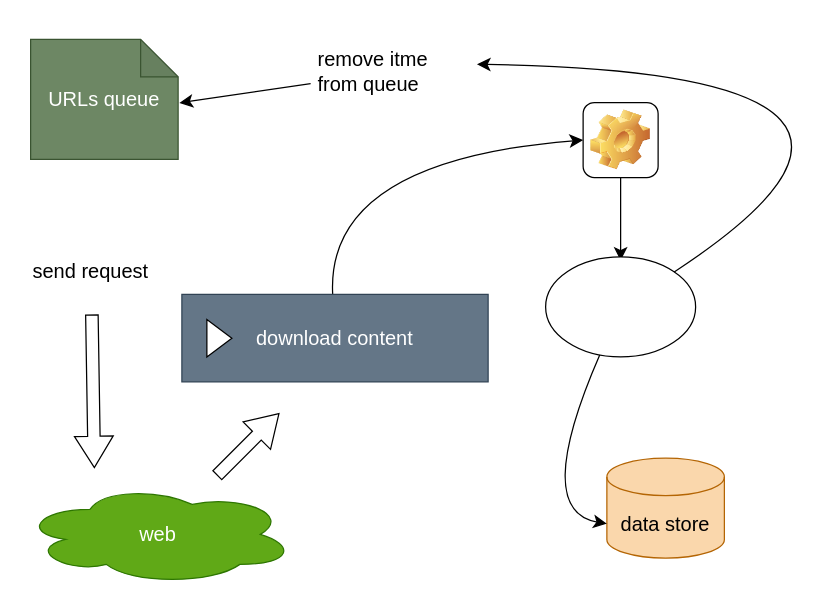
Some shapes in this 814 by 606 pixel diagram are drawn without their labels. Here are the shapes that lost their labels. From the top down, the box of each, then its label:
(582, 101, 658, 178): process and filter content
(544, 256, 696, 357): save result
